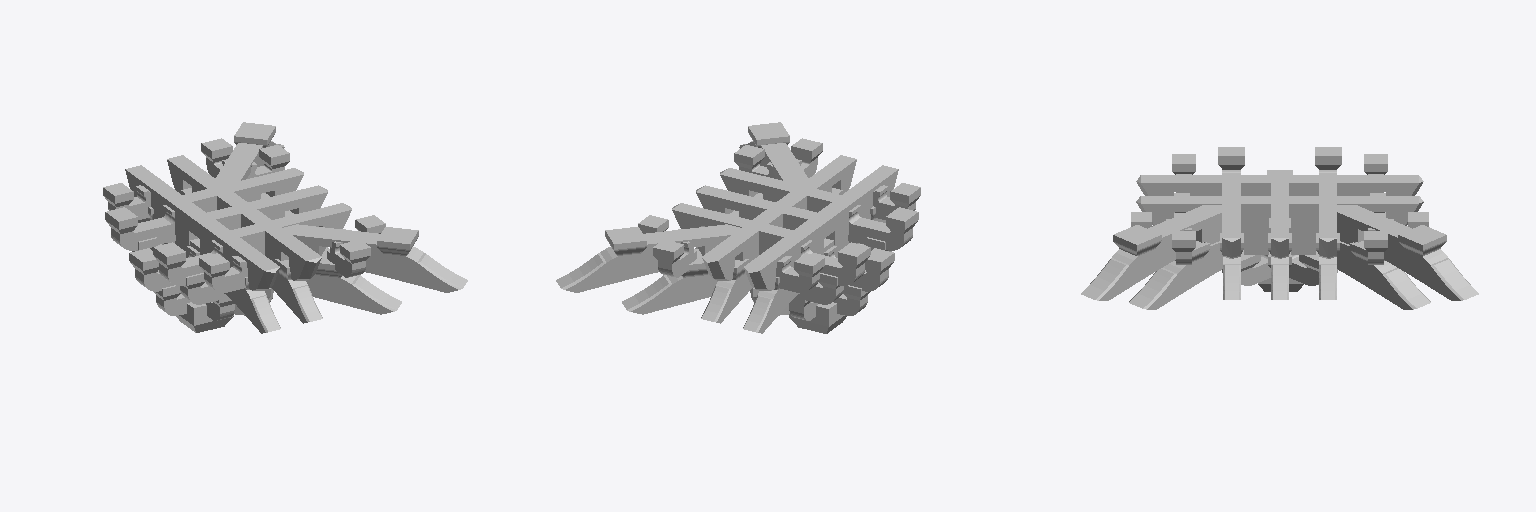
File: Side Toukung.obj
The picture shows the model from 3 angles: view 1: azimuth 30°, elevation 25°; view 2: azimuth 150°, elevation 25°; view 3: azimuth 270°, elevation 25°; orthographic projection.
Visible parts, largest first — view 1: Flower_board:FlowerPl11 polySurface5659, Flower_board:FlowerPl11 polySurface5693, Flower_board:FlowerPl11 polySurface5655, Flower_board:FlowerPl11 polySurface5694, Flower_board:FlowerPl11 polySurface5680, Flower_board:FlowerPl11 polySurface5695, Flower_board:FlowerPl11 polySurface5676, Flower_board:FlowerPl11 polySurface5677, Flower_board:FlowerPl11 polySurface5678, Flower_board:FlowerPl11 polySurface5696, Flower_board:FlowerPl11 polySurface5679, Flower_board:FlowerPl11 polySurface5672 (+13 smaller); view 2: Flower_board:FlowerPl11 polySurface5657, Flower_board:FlowerPl11 polySurface5694, Flower_board:FlowerPl11 polySurface5653, Flower_board:FlowerPl11 polySurface5696, Flower_board:FlowerPl11 polySurface5693, Flower_board:FlowerPl11 polySurface5680, Flower_board:FlowerPl11 polySurface5678, Flower_board:FlowerPl11 polySurface5679, Flower_board:FlowerPl11 polySurface5676, Flower_board:FlowerPl11 polySurface5695, Flower_board:FlowerPl11 polySurface5677, Flower_board:FlowerPl11 polySurface5667 (+13 smaller); view 3: Flower_board:FlowerPl11 polySurface5657, Flower_board:FlowerPl11 polySurface5659, Flower_board:FlowerPl11 polySurface5653, Flower_board:FlowerPl11 polySurface5655, Flower_board:FlowerPl11 polySurface5694, Flower_board:FlowerPl11 polySurface5693, Flower_board:FlowerPl11 polySurface5695, Flower_board:FlowerPl11 polySurface5696, Flower_board:FlowerPl11 polySurface5678, Flower_board:FlowerPl11 polySurface5676, Flower_board:FlowerPl11 polySurface5680, Flower_board:FlowerPl11 polySurface5658 (+14 smaller).
Part boxes in pixels (x1,y1,x2,y2): Flower_board:FlowerPl11 polySurface5659: (283,224,467,292); Flower_board:FlowerPl11 polySurface5693: (195,216,280,290); Flower_board:FlowerPl11 polySurface5655: (306,274,401,314); Flower_board:FlowerPl11 polySurface5694: (125,165,208,244); Flower_board:FlowerPl11 polySurface5680: (199,185,327,229); Flower_board:FlowerPl11 polySurface5695: (238,209,321,280); Flower_board:FlowerPl11 polySurface5676: (174,168,303,212); Flower_board:FlowerPl11 polySurface5677: (105,205,175,250); Flower_board:FlowerPl11 polySurface5678: (222,203,351,254); Flower_board:FlowerPl11 polySurface5696: (167,155,247,209); Flower_board:FlowerPl11 polySurface5679: (153,240,222,285); Flower_board:FlowerPl11 polySurface5672: (199,253,247,293); Flower_board:FlowerPl11 polySurface5657: (556,224,740,292); Flower_board:FlowerPl11 polySurface5694: (744,218,828,290); Flower_board:FlowerPl11 polySurface5653: (622,274,717,314); Flower_board:FlowerPl11 polySurface5696: (702,206,785,280); Flower_board:FlowerPl11 polySurface5693: (815,165,898,244); Flower_board:FlowerPl11 polySurface5680: (696,185,824,229); Flower_board:FlowerPl11 polySurface5678: (720,168,849,212); Flower_board:FlowerPl11 polySurface5679: (848,205,918,250); Flower_board:FlowerPl11 polySurface5676: (672,203,797,254); Flower_board:FlowerPl11 polySurface5695: (773,155,856,209); Flower_board:FlowerPl11 polySurface5677: (801,240,870,285); Flower_board:FlowerPl11 polySurface5667: (776,253,824,293); Flower_board:FlowerPl11 polySurface5657: (1337,205,1478,300); Flower_board:FlowerPl11 polySurface5659: (1081,205,1221,300); Flower_board:FlowerPl11 polySurface5653: (1289,218,1430,309); Flower_board:FlowerPl11 polySurface5655: (1129,218,1270,309); Flower_board:FlowerPl11 polySurface5694: (1280,175,1423,195); Flower_board:FlowerPl11 polySurface5693: (1136,175,1279,195); Flower_board:FlowerPl11 polySurface5695: (1136,196,1275,231); Flower_board:FlowerPl11 polySurface5696: (1281,196,1423,231); Flower_board:FlowerPl11 polySurface5678: (1222,179,1240,258); Flower_board:FlowerPl11 polySurface5676: (1319,179,1336,258); Flower_board:FlowerPl11 polySurface5680: (1271,179,1288,258); Flower_board:FlowerPl11 polySurface5658: (1398,225,1446,256).
Bounding box in the file's own units: 1.33 × 0.5907 × 1.93.